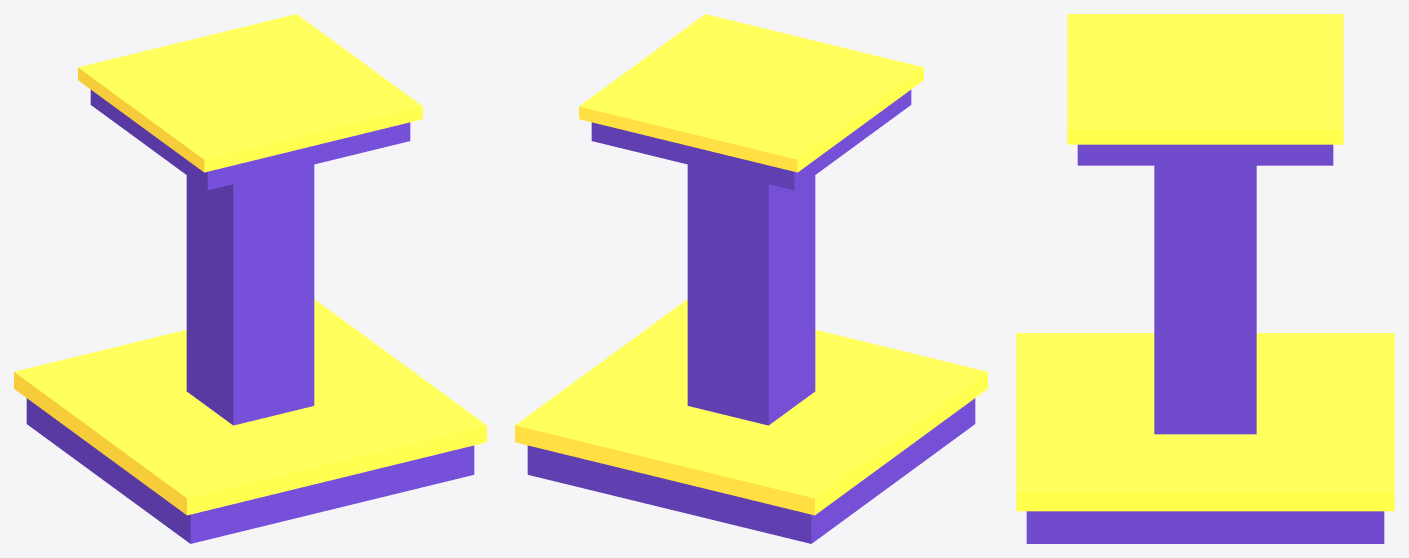
File: wand_stand_empty.gltf
The picture shows the model from 3 angles, left to right: view 1: azimuth 30°, elevation 25°; view 2: azimuth 150°, elevation 25°; view 3: azimuth 270°, elevation 25°; orthographic projection. The views are drawn at different scales.
Parts seen in each view (by area): view 1: wand_stand_empty; view 2: wand_stand_empty; view 3: wand_stand_empty.
Boxes of the visible parts, x1,y1,x2,y2 form: wand_stand_empty: (14,14,486,543); wand_stand_empty: (515,14,987,543); wand_stand_empty: (1016,14,1394,543).
Size of the model in its own units: 0.74 by 0.855 by 0.74.
